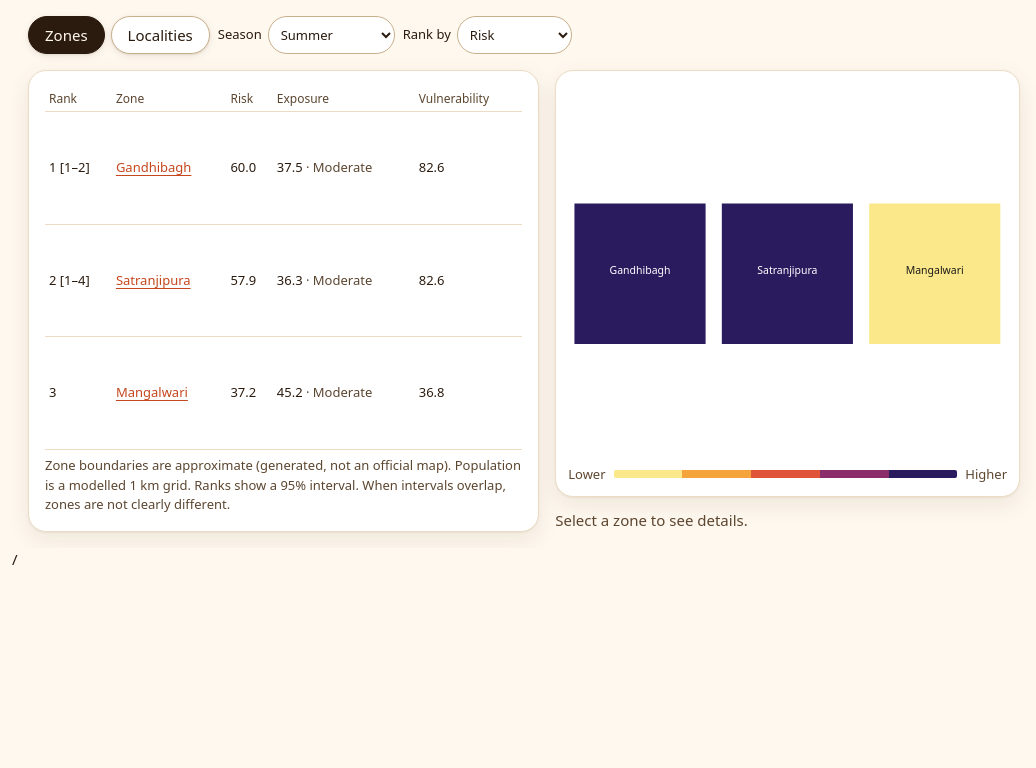
it: ZonesPage › switches to localities
The width and height of the screenshot is (1036, 768).
Click the button "Localities".
click(160, 35)  # box x1=111 y1=16 x2=210 y2=54
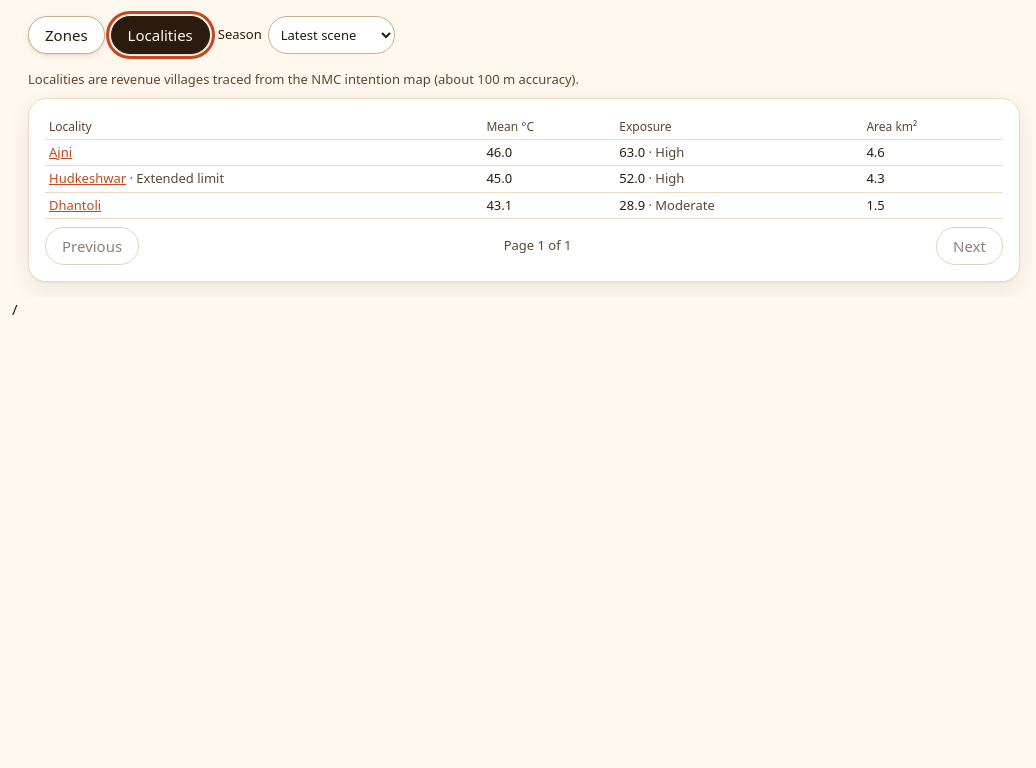
Expected: the link "Hudkeshwar" is shown, x1=49 y1=169 x2=126 y2=187
